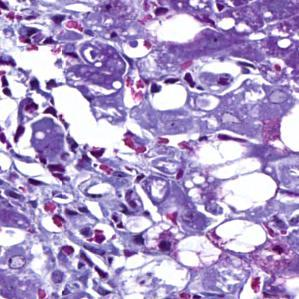ballooning: (114, 250, 190, 298), (173, 233, 224, 270)
